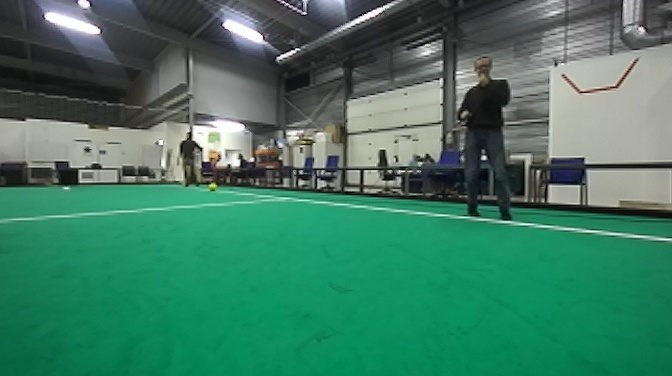ball: (208, 182, 217, 192)
human: (455, 55, 517, 226)
